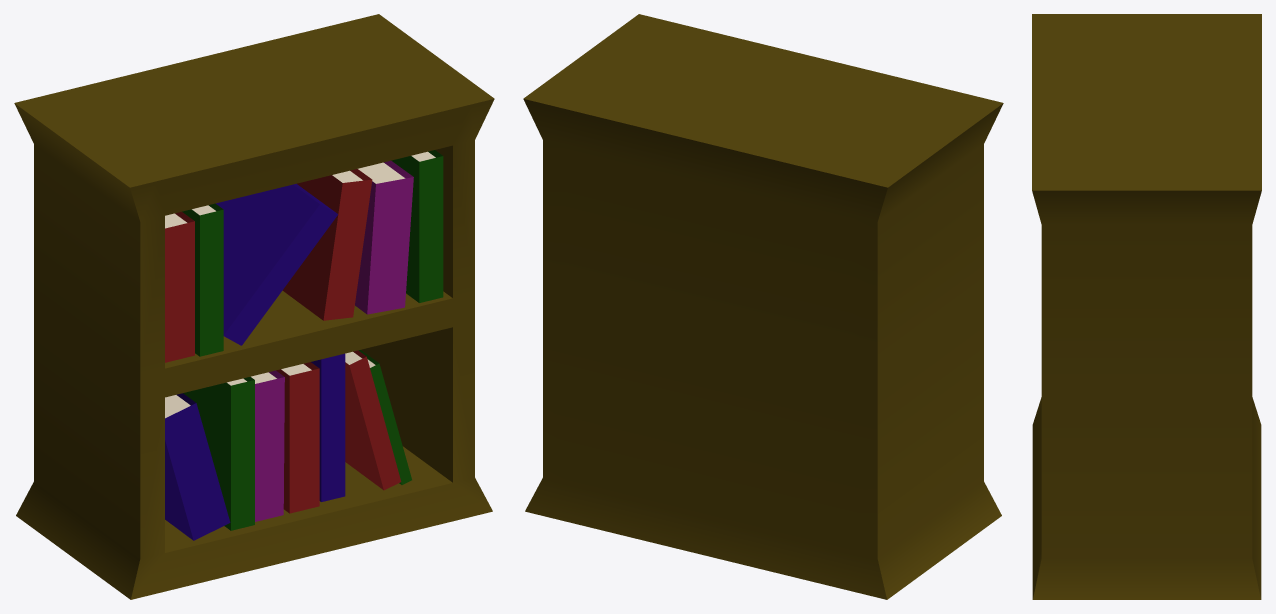
The model's file is BookShelfSmallFinal.fbx.
The picture shows the model from 3 angles, left to right: view 1: azimuth 30°, elevation 25°; view 2: azimuth 150°, elevation 25°; view 3: azimuth 270°, elevation 25°; orthographic projection.
Visible parts, largest first — view 1: BookCaseSmall, B3, B4, B5, A1, A2, A4, B6, A6, B2, B1, A3 (+2 smaller); view 2: BookCaseSmall; view 3: BookCaseSmall.
Part boxes in pixels (bbox=[...]): BookCaseSmall: bbox=[14, 14, 494, 599]; B3: bbox=[215, 183, 337, 345]; B4: bbox=[282, 169, 372, 320]; B5: bbox=[355, 160, 413, 314]; A1: bbox=[165, 393, 230, 540]; A2: bbox=[183, 376, 254, 530]; A4: bbox=[276, 362, 319, 513]; B6: bbox=[391, 150, 443, 302]; A6: bbox=[345, 350, 401, 490]; B2: bbox=[182, 203, 223, 356]; B1: bbox=[165, 211, 194, 362]; A3: bbox=[251, 370, 284, 521]; BookCaseSmall: bbox=[523, 14, 1003, 599]; BookCaseSmall: bbox=[1032, 14, 1261, 599].
Bounding box in the file's own units: 5 × 5.41 × 2.75.
